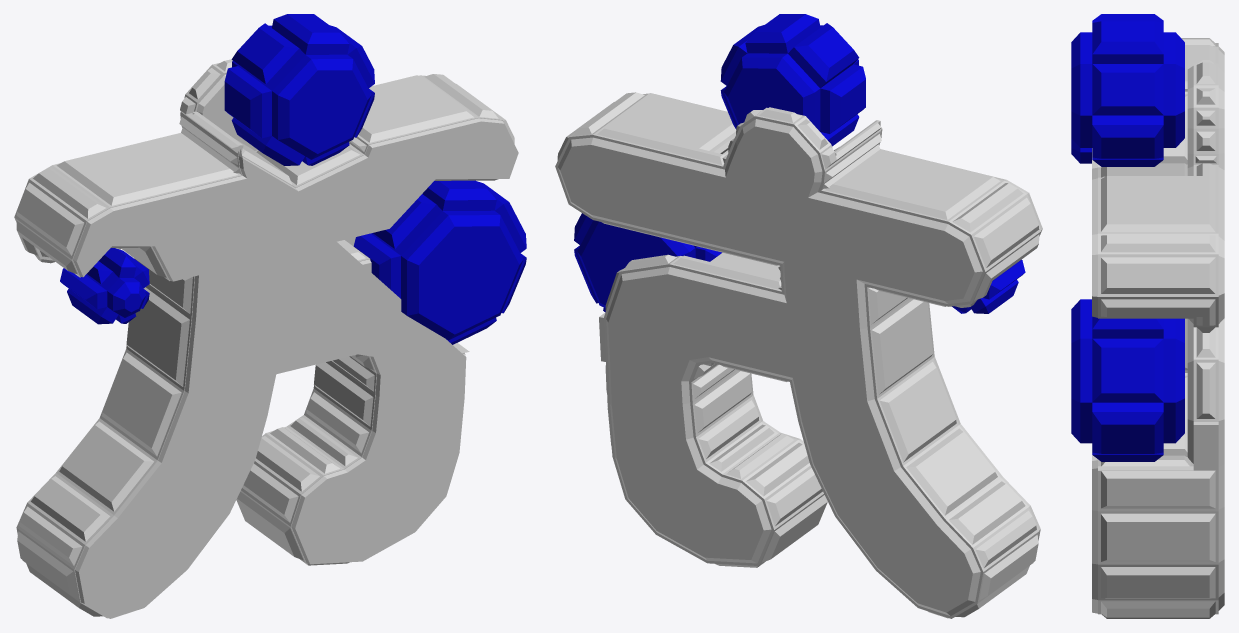
File: Ch_China_方_01.fbx
The picture shows the model from 3 angles, left to right: view 1: azimuth 30°, elevation 25°; view 2: azimuth 150°, elevation 25°; view 3: azimuth 270°, elevation 25°; orthographic projection. The views are drawn at different scales.
Visible parts, largest first — view 1: sphere1; view 2: sphere1; view 3: sphere1.
Boxes of the visible parts, bbox=[...] form: sphere1: bbox=[14, 14, 526, 618]; sphere1: bbox=[555, 14, 1042, 618]; sphere1: bbox=[1071, 14, 1224, 618].
Bounding box in the file's own units: 0.9103 × 1.03 × 0.2541.
